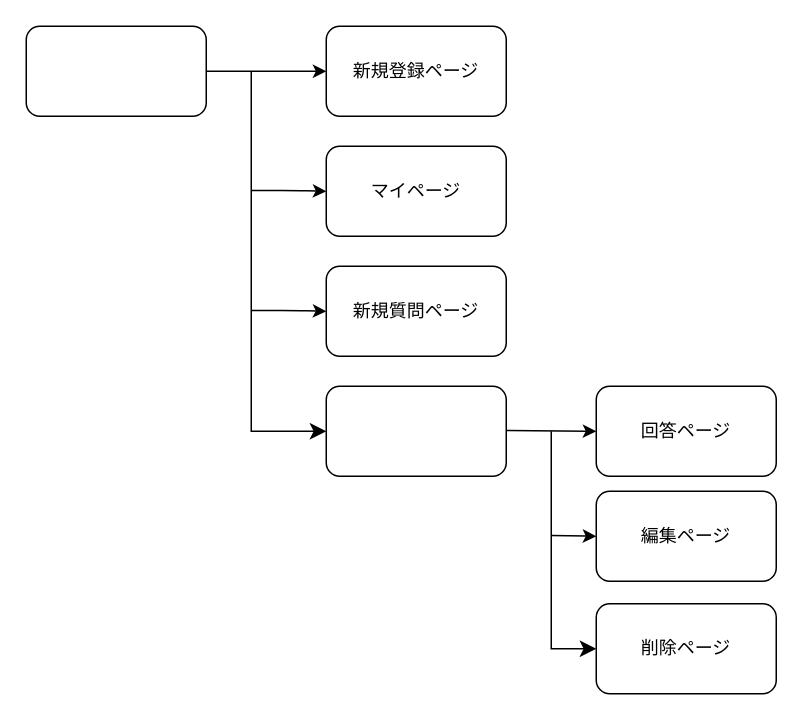
This 803x720 diagram has some shape labels left out. Each missing label, with the box of its shape:
詳細ページ: (325, 385, 506, 476)
質問一覧ページ: (25, 25, 206, 116)
